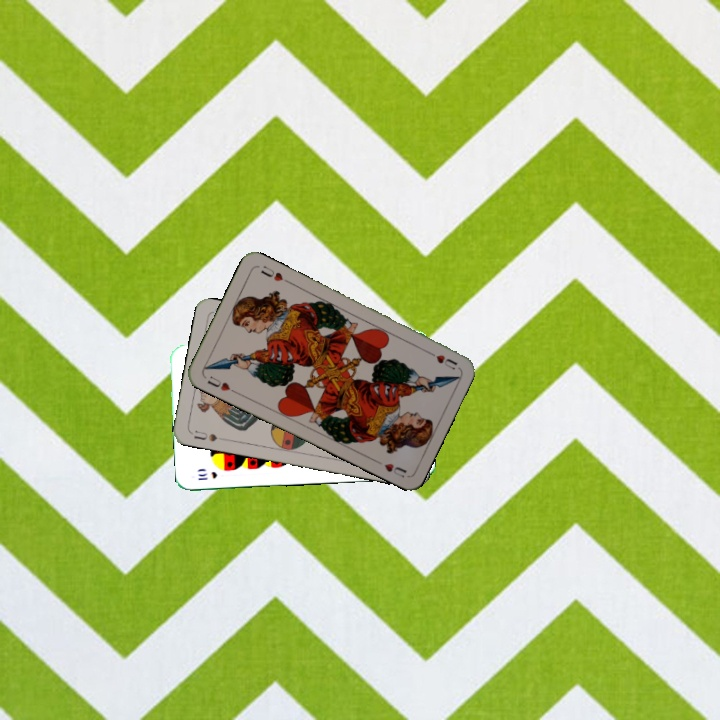HU: (423, 347, 459, 372), (203, 372, 239, 396)
S10: (194, 468, 220, 483)
SU: (190, 426, 228, 444)
